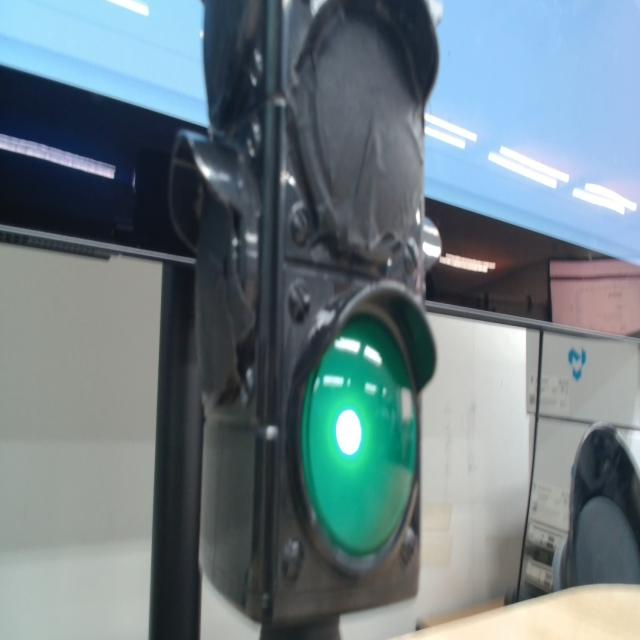green_light: (302, 316, 416, 556), (336, 409, 361, 455)
